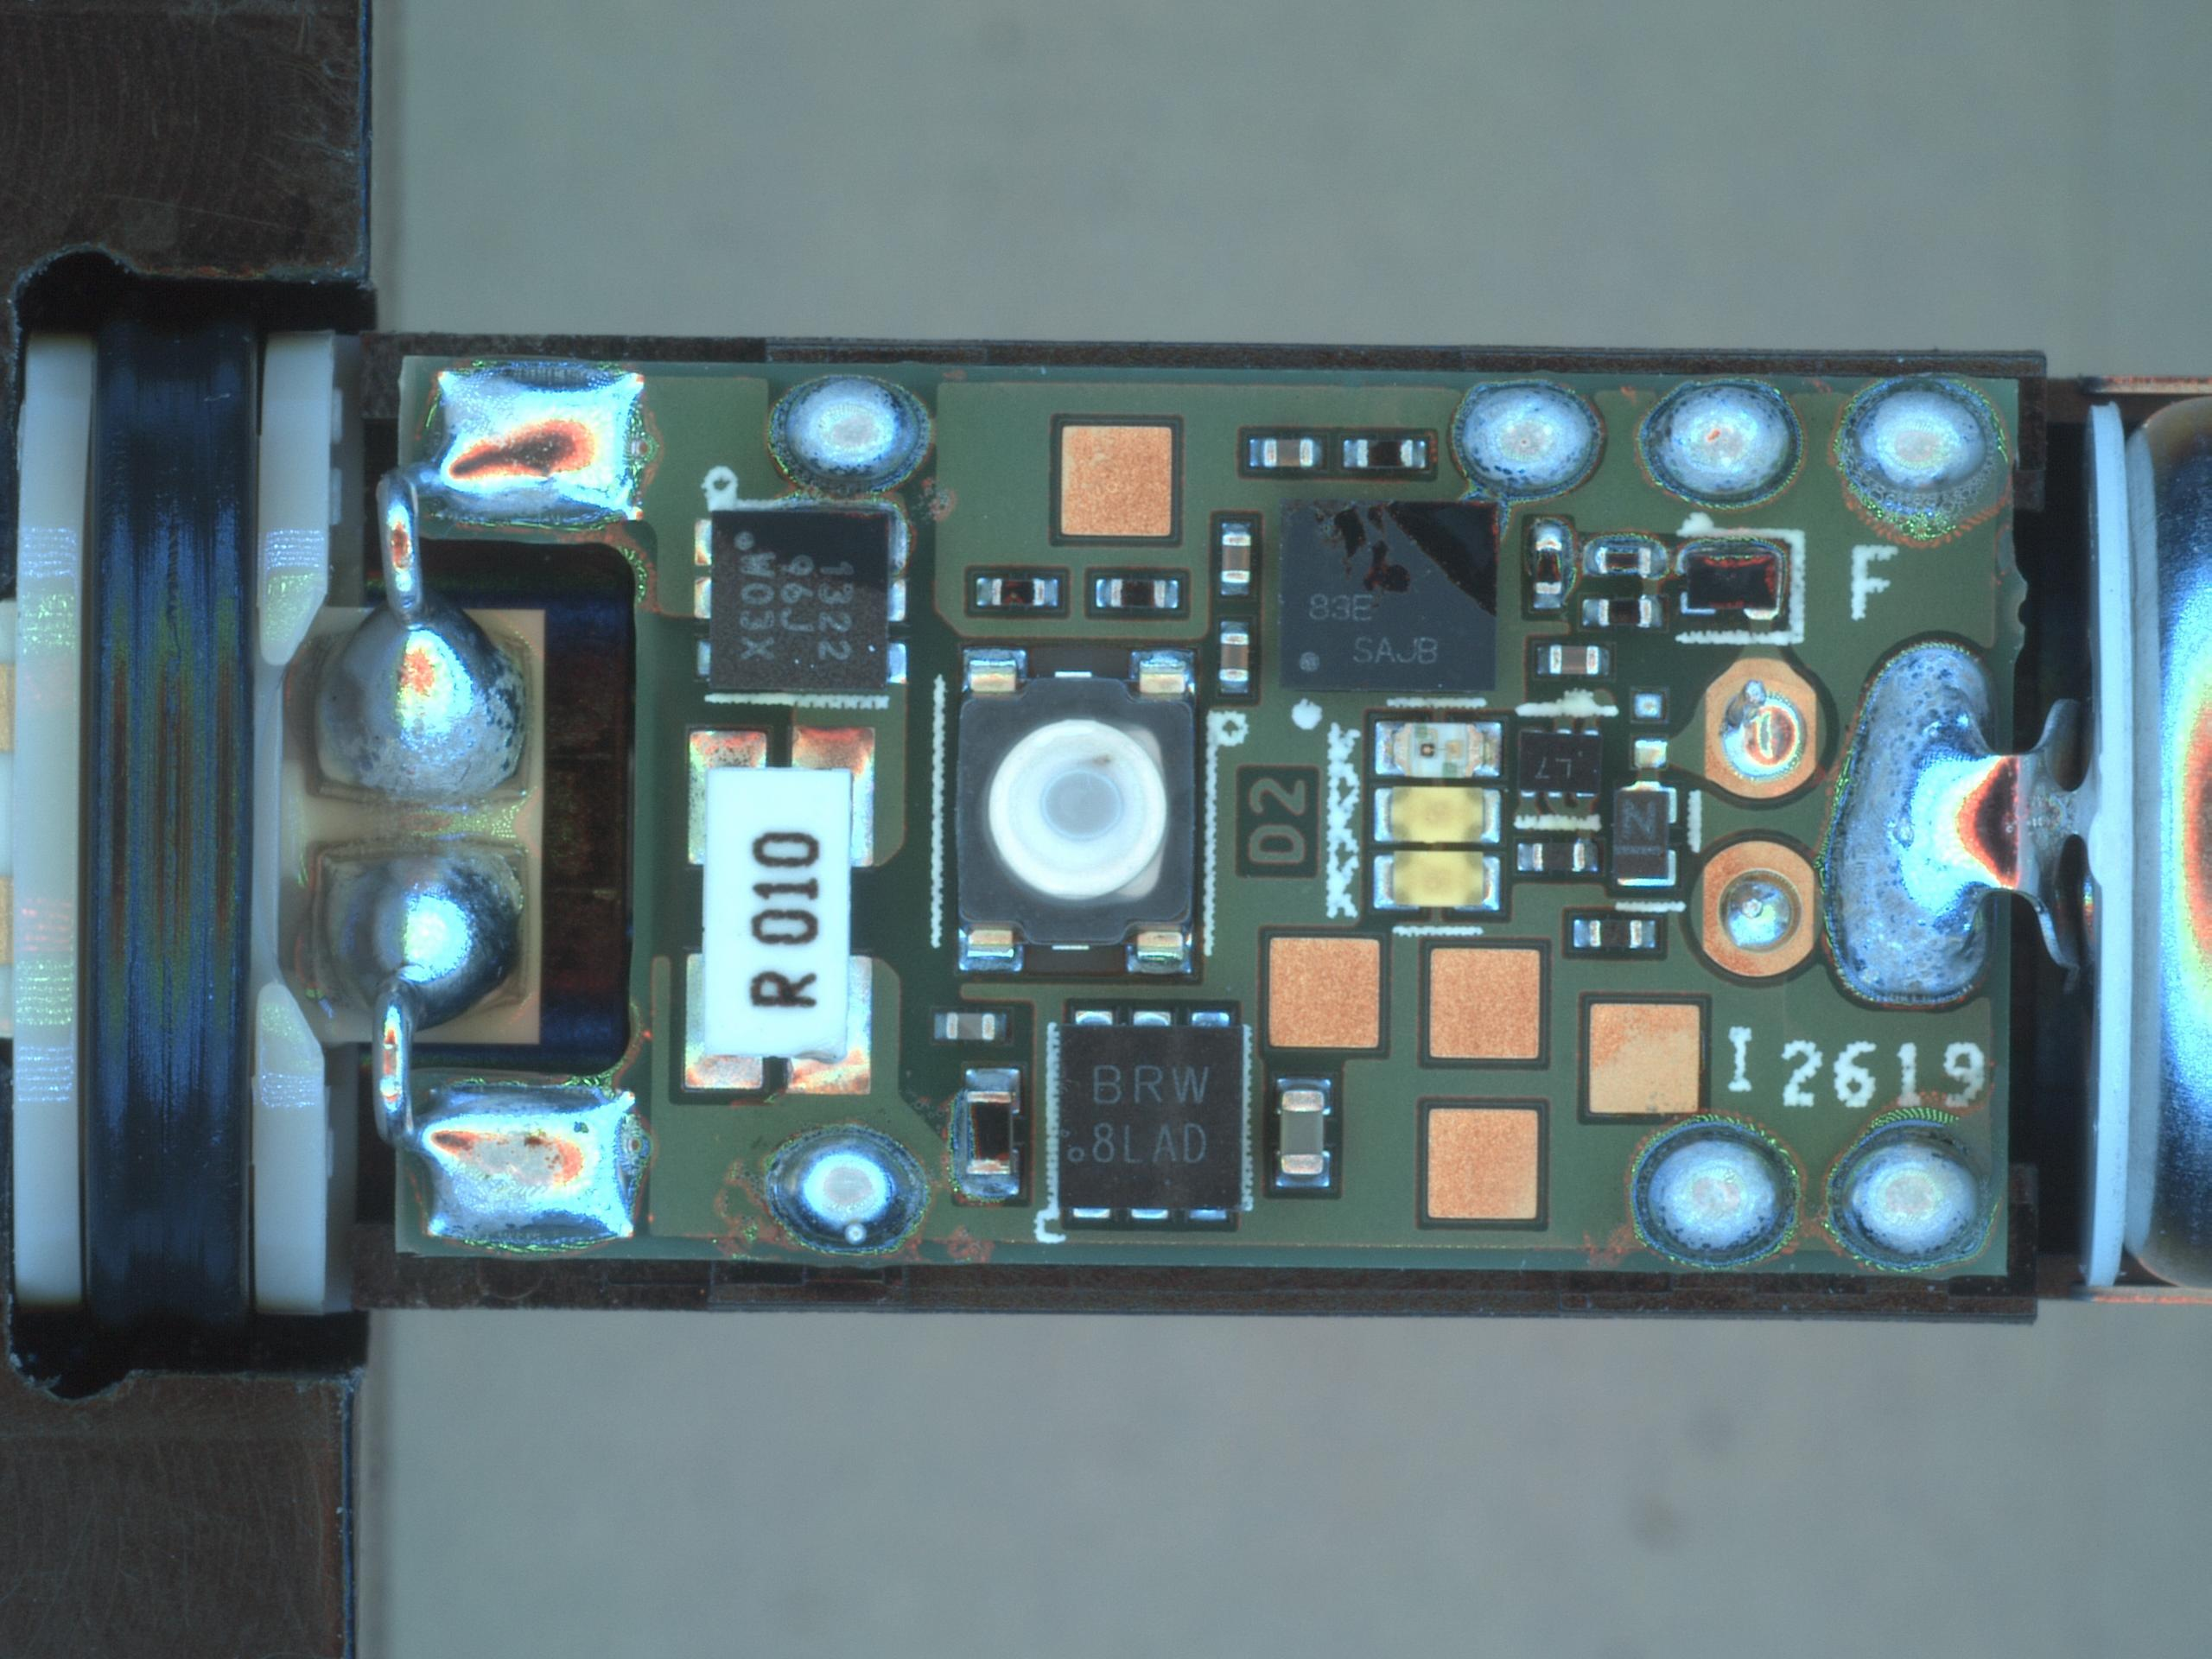solderball: (843, 1223, 871, 1244)
